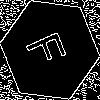F: (25, 25, 75, 71)
